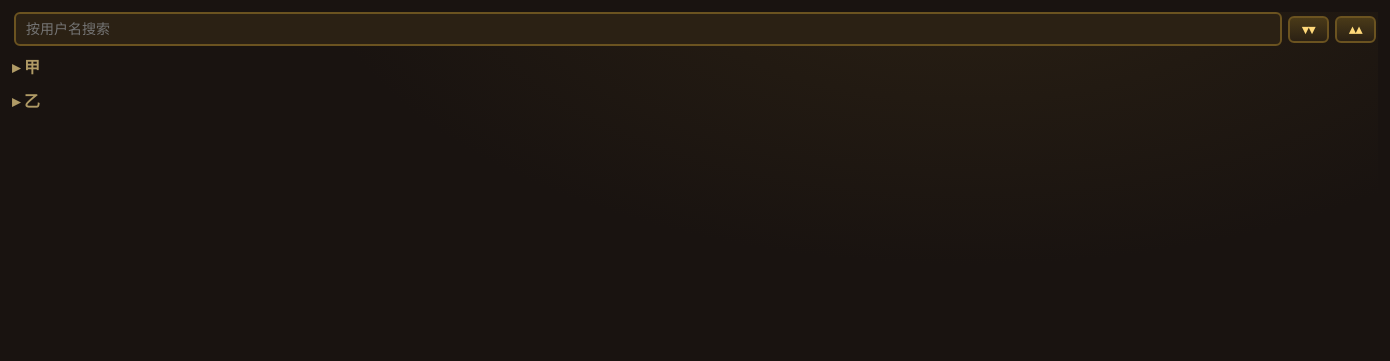
Scenario: RosterPool › 推荐角标：单波显示 推荐→红队
What coordinates should you click on to do the following:
click the button "▾▾"
I would click on:
 (1308, 29)
Its box is [1288, 16, 1329, 42].
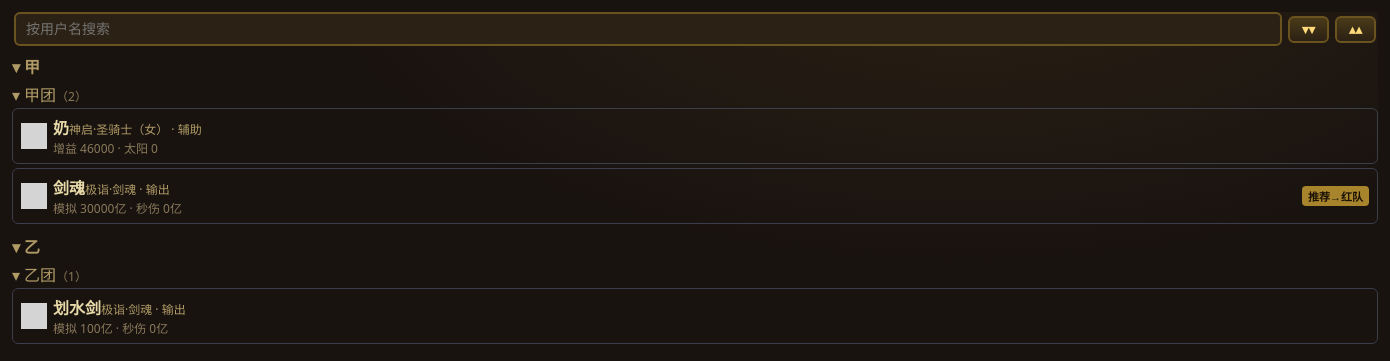
Expected: the element that starts with "极诣·剑魂 · 输出" shows "推荐→红队", [1308, 189, 1363, 204]
